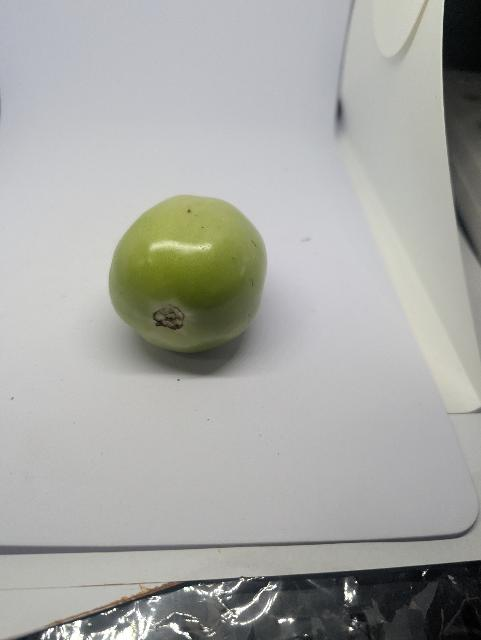green: (100, 163, 281, 373)
